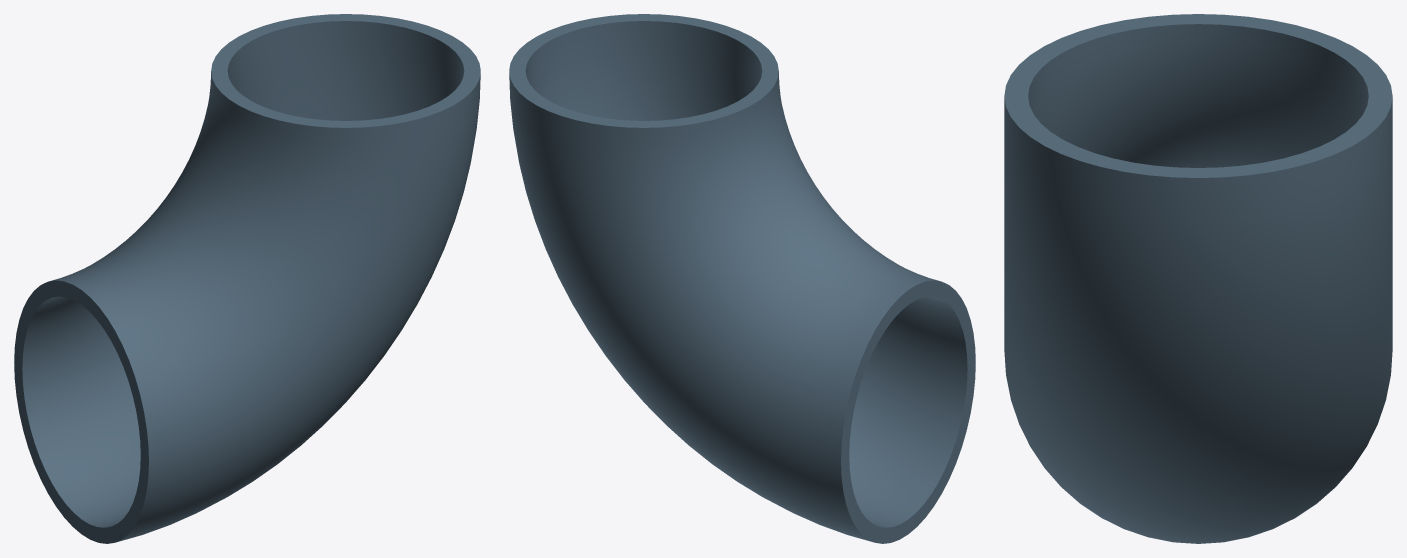
Rendered from otvod-90-42_4x2_6-R48.glb.
3 views of the same model, side by side, from view 1: azimuth 30°, elevation 25°; view 2: azimuth 150°, elevation 25°; view 3: azimuth 270°, elevation 25° (orthographic). The views are drawn at different scales.
Visible parts, largest first — view 1: Open CASCADE STEP translator 7.9 9; view 2: Open CASCADE STEP translator 7.9 9; view 3: Open CASCADE STEP translator 7.9 9.
Boxes of the visible parts, left/top/right/bottom form: Open CASCADE STEP translator 7.9 9: left=14, top=14, right=480, bottom=543; Open CASCADE STEP translator 7.9 9: left=509, top=14, right=975, bottom=543; Open CASCADE STEP translator 7.9 9: left=1004, top=14, right=1392, bottom=543.
Bounding box in the file's own units: 69.2 × 69.2 × 42.4.
